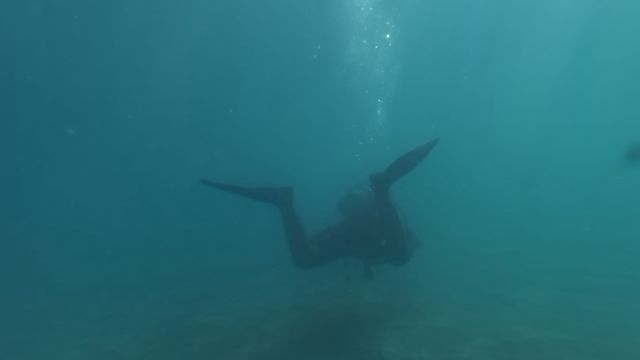Diver: (195, 130, 444, 281)
